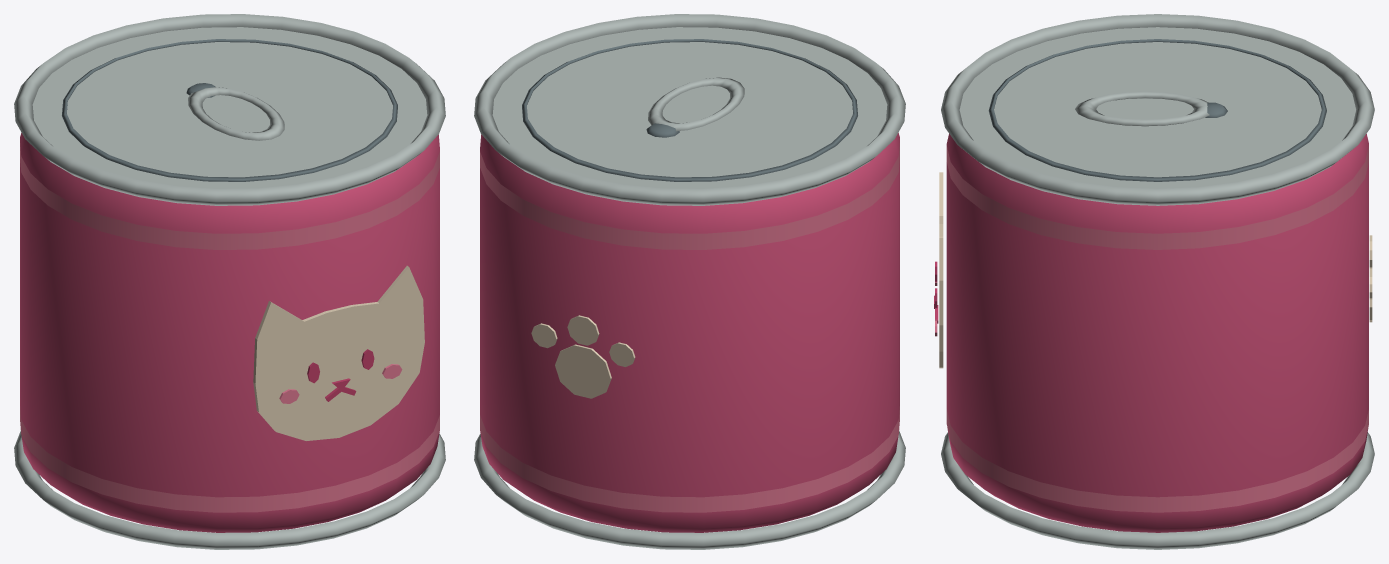
File: snack_can.glb
3 renders of one model, left to right at view 1: azimuth 30°, elevation 25°; view 2: azimuth 150°, elevation 25°; view 3: azimuth 270°, elevation 25°, orthographic.
Visible parts, largest first — view 1: snack_can_Mesh; view 2: snack_can_Mesh; view 3: snack_can_Mesh.
Boxes of the visible parts, x1,y1,x2,y2 form: snack_can_Mesh: (14, 14, 445, 549); snack_can_Mesh: (474, 14, 905, 549); snack_can_Mesh: (934, 14, 1374, 549).
Bounding box in the file's own units: 0.51 × 0.47 × 0.52.
